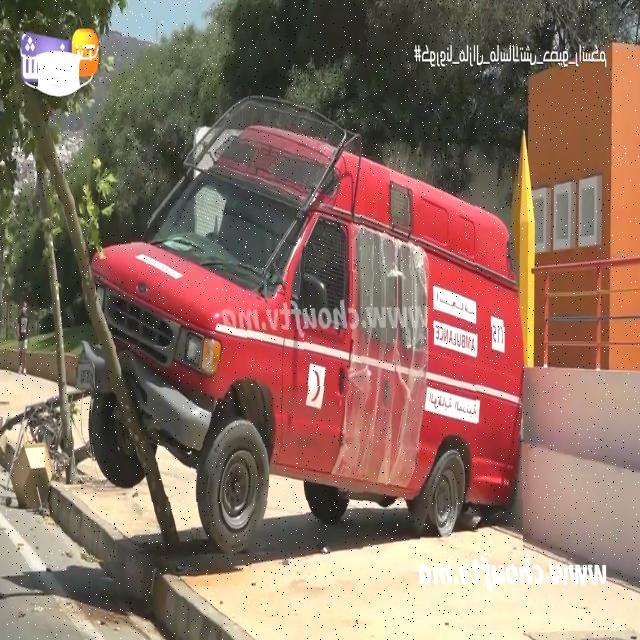ambulance: (87, 97, 521, 561)
